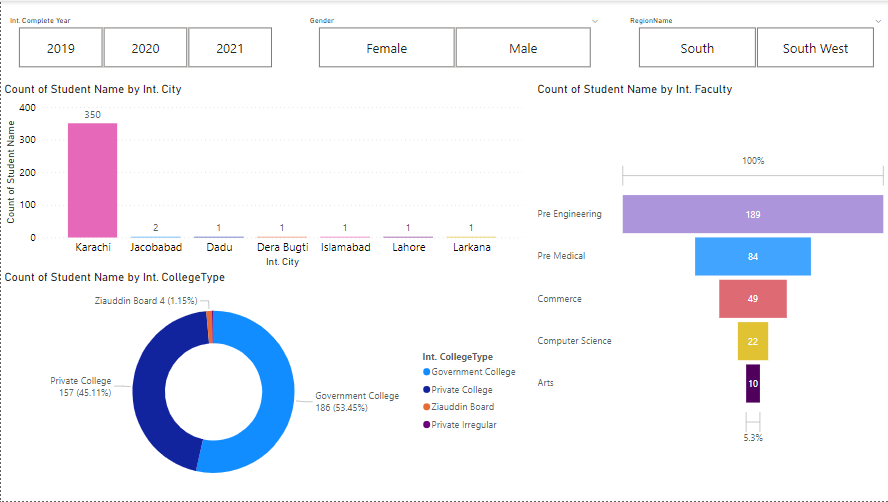

The page's visual inventory and layout, read from the dashboard file:
{"tool":"powerbi","page":{"name":"Intermediate","canvas":[1280,720],"ordinal":2},"visuals":[{"type":"slicer","fields":{"Values":["Sheet1.Int. Complete Year"]},"box":[0,17.2,413.9,84.8],"z":0},{"type":"slicer","fields":{"Values":["Sheet1.Gender"]},"box":[432.6,17.2,441.2,84.8],"z":1000},{"type":"slicer","fields":{"Values":["Sheet1.RegionName"]},"box":[892.5,17.2,388,84.8],"z":2000},{"type":"funnel","fields":{"Category":["Sheet1.Int. Faculty"],"Y":["CountNonNull(Sheet1.Student Name)"]},"box":[767.4,116.4,513.1,603.6],"z":3000},{"type":"clusteredColumnChart","fields":{"Y":["CountNonNull(Sheet1.Student Name)"],"Category":["Sheet1.Int. City"]},"box":[0,116.4,755.9,271.6],"z":4000},{"type":"donutChart","fields":{"Category":["Sheet1.Int. CollegeType"],"Y":["Count(Sheet1.Student Name)"]},"box":[0,388,755.9,332],"z":5000}]}

Visuals, with their boxes in screenshot pixels (x1, y1, x2, y2), scaled from the page's 1280x720 canvas onto the 888x502 screenshot:
slicer - Sheet1.Int. Complete Year: [0,12,287,71]
slicer - Sheet1.Gender: [300,12,606,71]
slicer - Sheet1.RegionName: [619,12,887,71]
funnel - Sheet1.Int. Faculty x CountNonNull(Sheet1.Student Name): [532,81,887,501]
clusteredColumnChart - CountNonNull(Sheet1.Student Name) x Sheet1.Int. City: [0,81,524,271]
donutChart - Sheet1.Int. CollegeType x Count(Sheet1.Student Name): [0,271,524,501]
